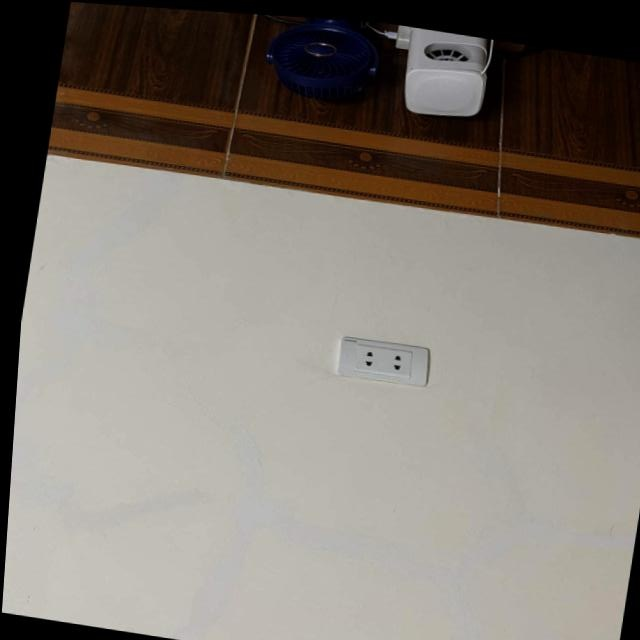outlet: (334, 335, 432, 391)
